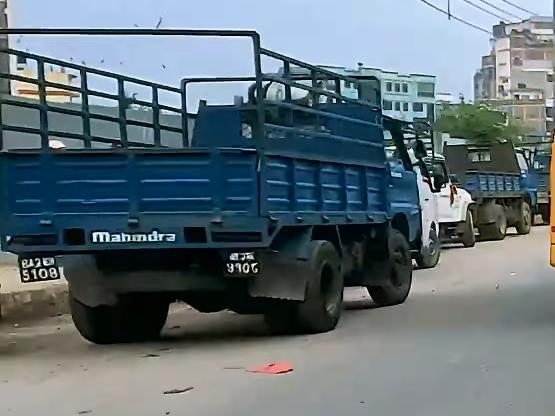mini_truck: (0, 24, 424, 346), (431, 124, 545, 243)
transport_vehicle: (414, 146, 480, 252)
